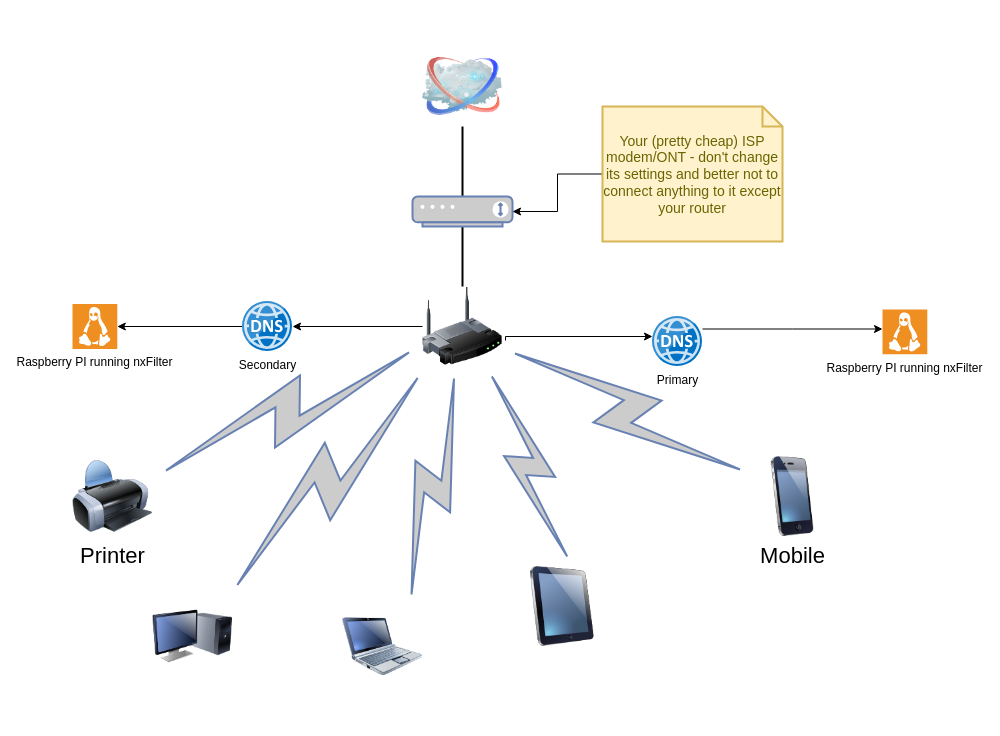
The diagram is 1000 pixels wide and 736 high, and some of its shapes have lost their labels. The centre of each missing label's shape, as x and y in pixels:
Internet: the point at 462,86
Laptop: the point at 382,646
PC: the point at 192,636
Tablet: the point at 562,606
